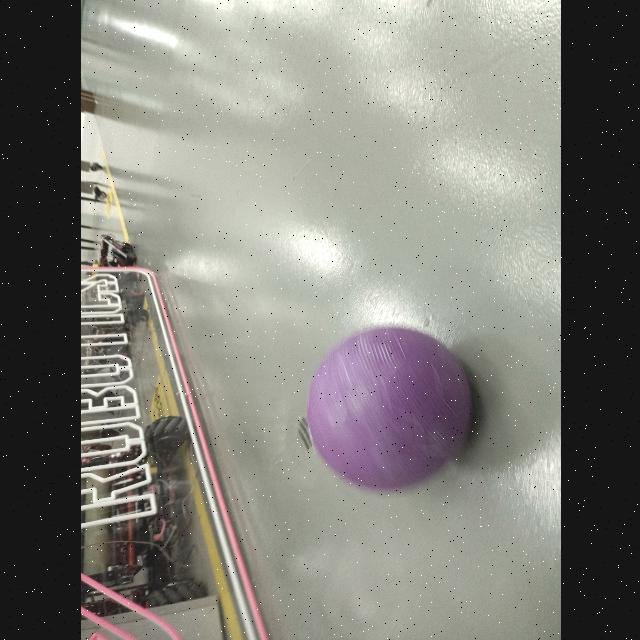P: (308, 323, 474, 484)
